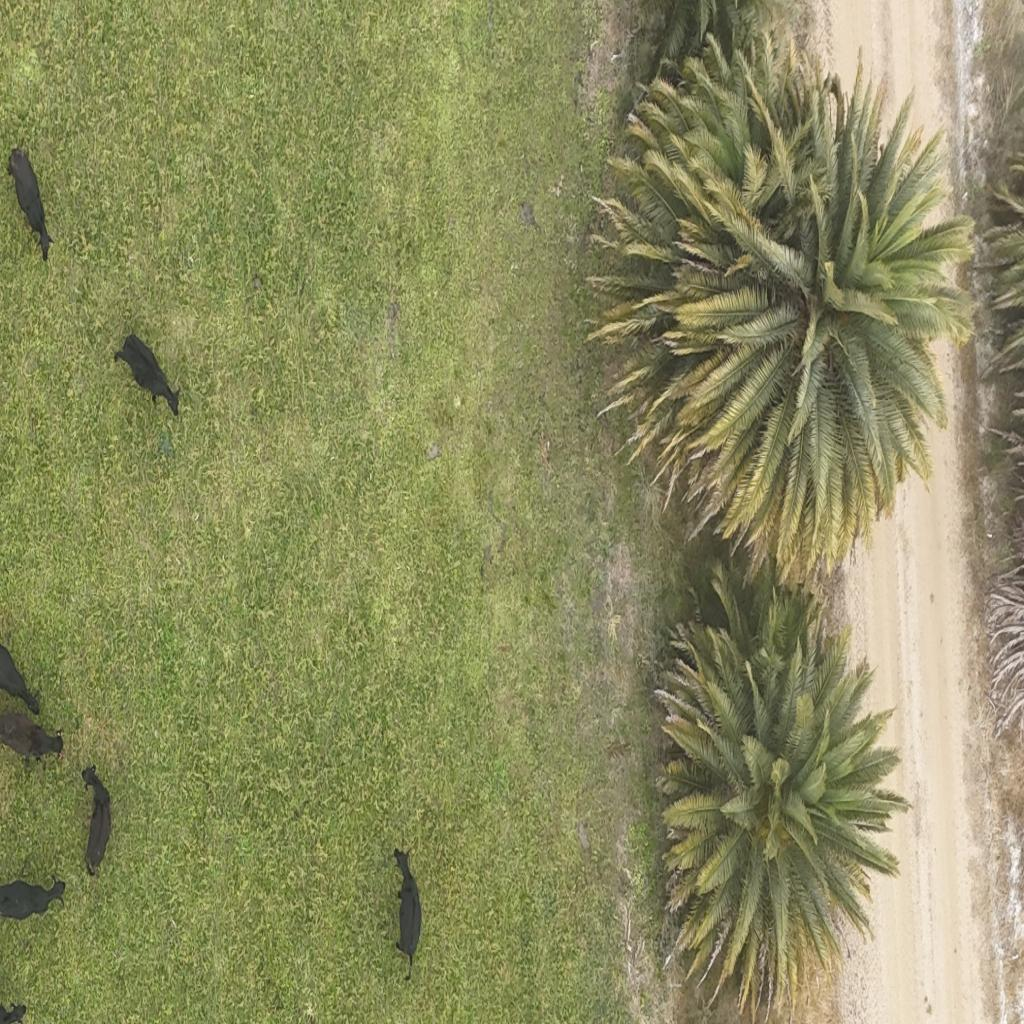cow: (114, 329, 186, 430), (6, 145, 56, 264), (393, 848, 423, 978), (0, 870, 68, 925), (0, 634, 44, 719), (81, 763, 112, 880), (0, 714, 66, 765)
